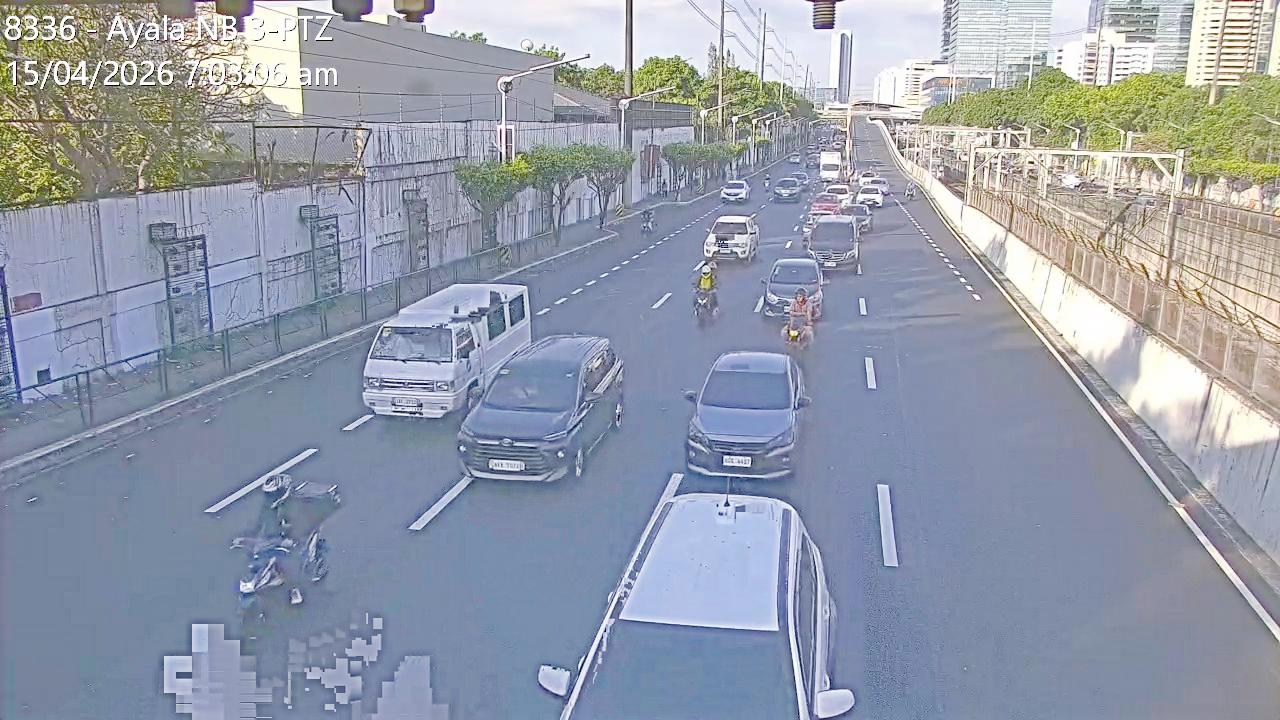Car: (544, 487, 841, 719), (456, 333, 622, 483), (358, 279, 530, 420), (683, 347, 809, 477), (758, 255, 826, 320), (800, 214, 863, 274), (701, 213, 760, 264), (809, 186, 853, 214), (770, 175, 806, 202), (843, 201, 873, 233), (719, 179, 751, 204), (856, 183, 885, 208), (857, 169, 880, 187)
Motor: (232, 458, 342, 632), (780, 287, 814, 346), (690, 259, 719, 318), (781, 314, 813, 353), (628, 207, 644, 233)
Not Accident: (362, 272, 604, 474), (748, 244, 828, 356), (684, 200, 756, 322), (806, 188, 874, 274)
